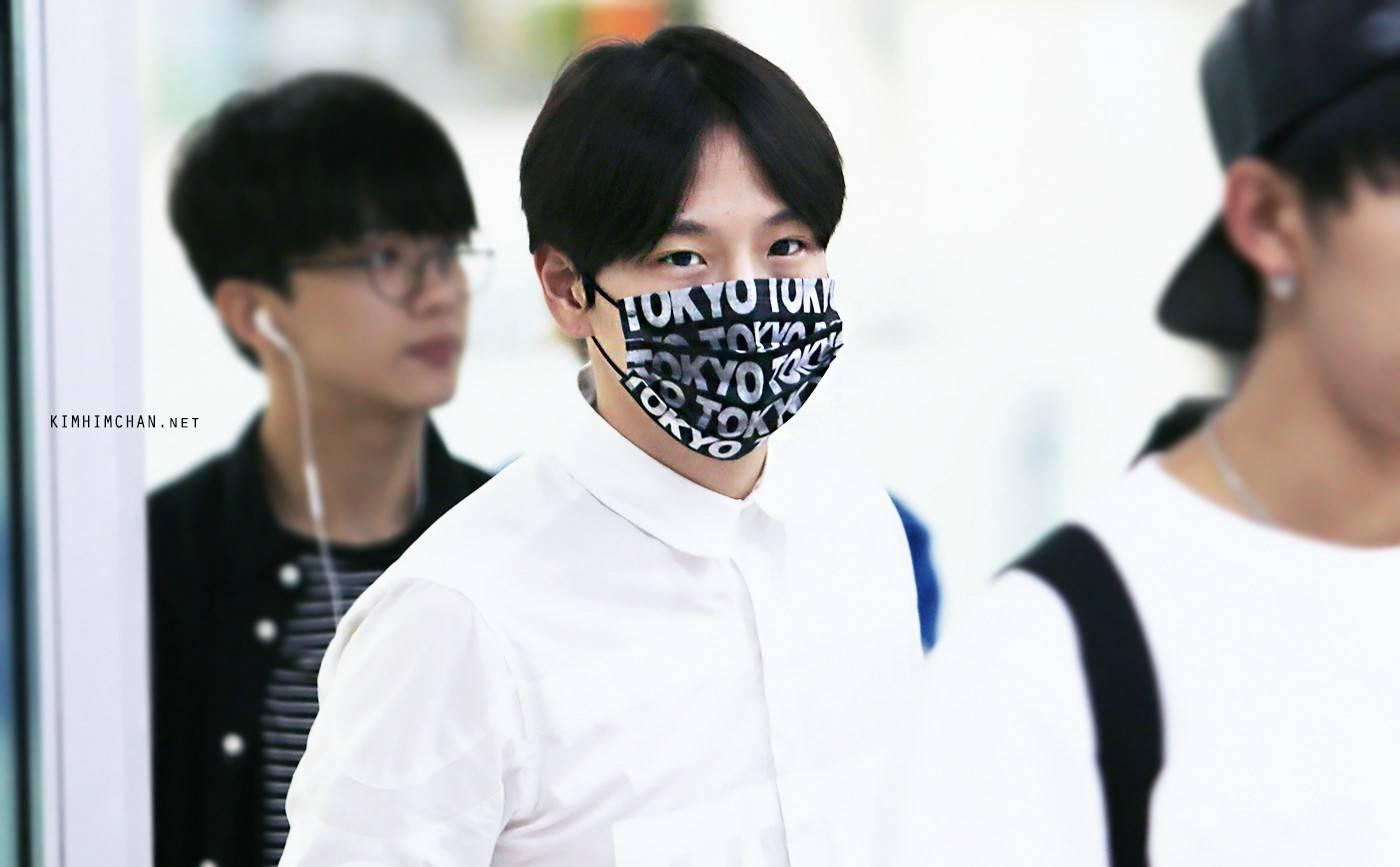NONE: (306, 229, 482, 407)
OK: (571, 182, 845, 456)
